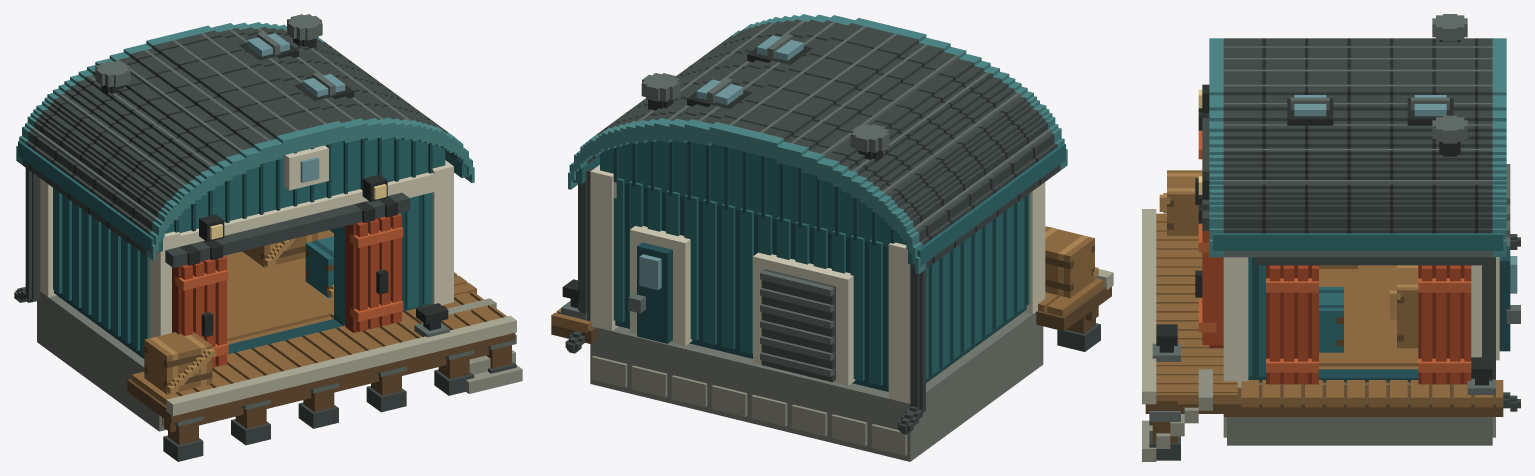
File: warehouse.glb
3 renders of one model, left to right at view 1: azimuth 30°, elevation 25°; view 2: azimuth 150°, elevation 25°; view 3: azimuth 270°, elevation 25°, orthographic. The views are drawn at different scales.
Parts seen in each view (by area): view 1: warehouse; view 2: warehouse; view 3: warehouse.
Part boxes in pixels (bbox=[...]): warehouse: bbox=[14, 14, 522, 461]; warehouse: bbox=[551, 14, 1113, 461]; warehouse: bbox=[1142, 14, 1520, 461].
Bounding box in the file's own units: 9.3 × 6.97 × 8.03.
